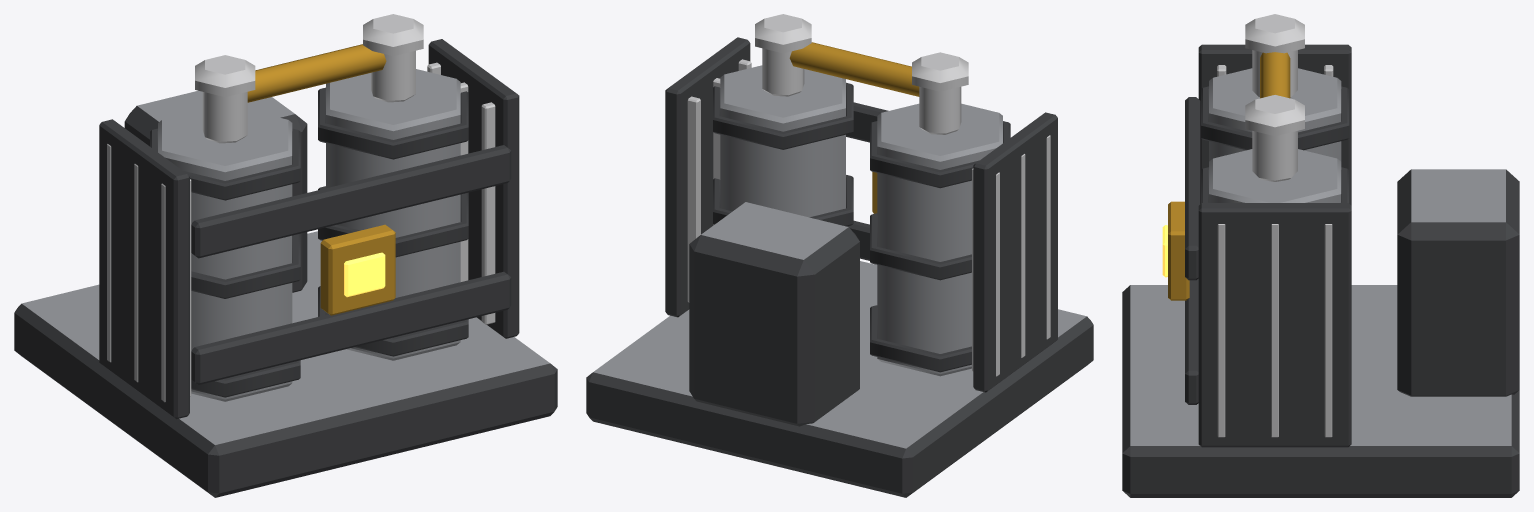
The model's file is R4X_Battery_LOD1.fbx.
3 renders of one model, left to right at view 1: azimuth 30°, elevation 25°; view 2: azimuth 150°, elevation 25°; view 3: azimuth 270°, elevation 25°, orthographic. The views are drawn at different scales.
Parts seen in each view (by area): view 1: R4X_Battery_LOD1; view 2: R4X_Battery_LOD1; view 3: R4X_Battery_LOD1.
Part boxes in pixels (left/top/right/bottom): R4X_Battery_LOD1: left=14, top=14, right=557, bottom=497; R4X_Battery_LOD1: left=586, top=14, right=1093, bottom=497; R4X_Battery_LOD1: left=1122, top=14, right=1519, bottom=497.
Bounding box in the file's own units: 0.52 × 0.51 × 0.52.
